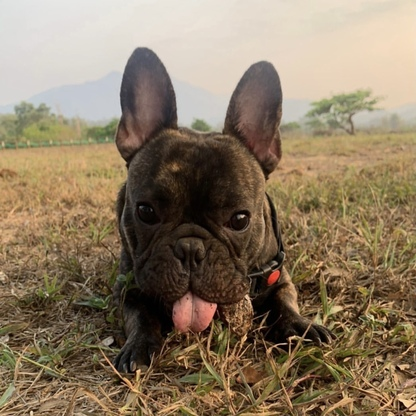bulldog: (112, 44, 338, 374)
